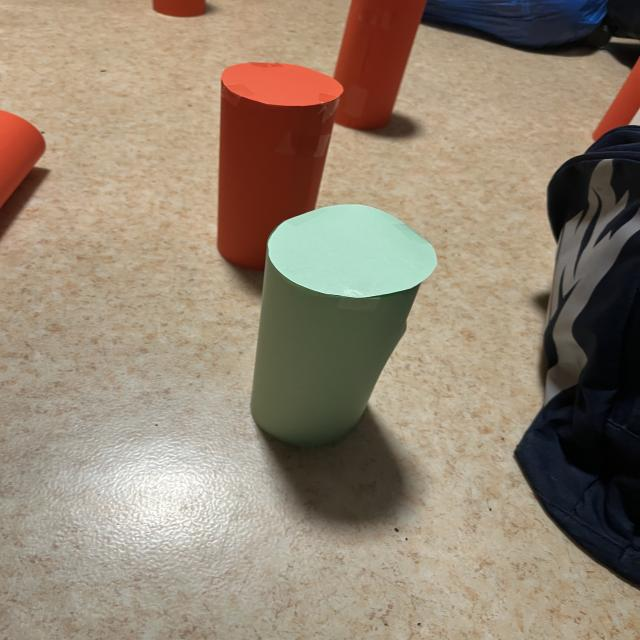meta: (251, 204, 437, 445)
przeszkoda: (217, 62, 343, 270)
